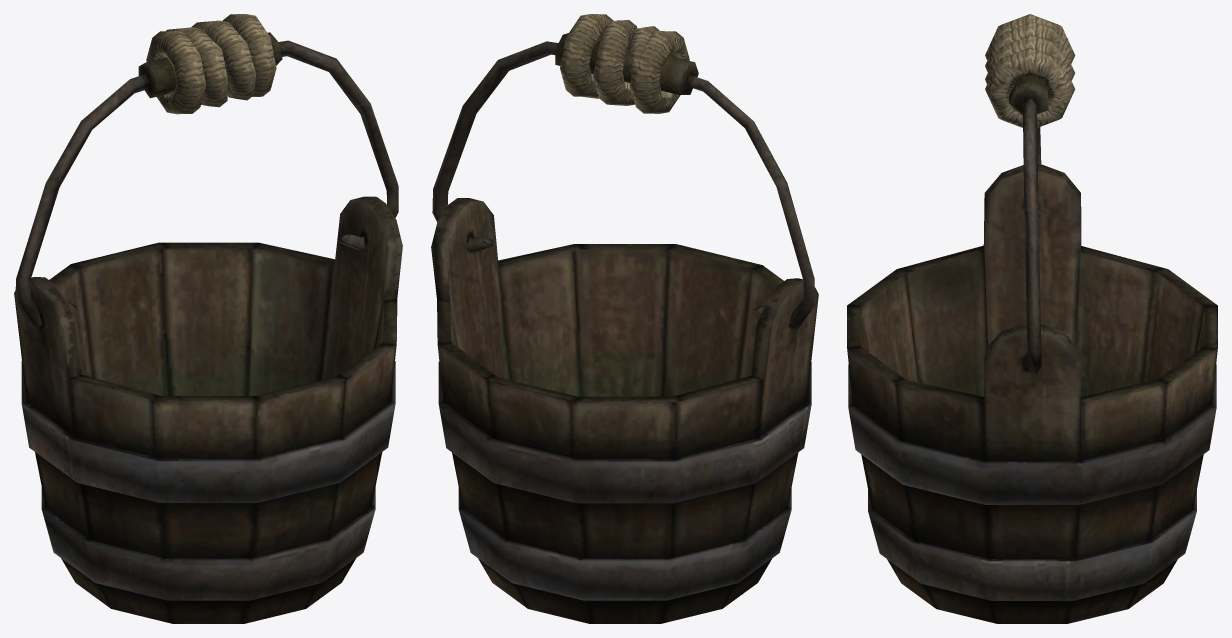
The model's file is wooden_bucket_rope.dae.
3 views of the same model, side by side, from view 1: azimuth 30°, elevation 25°; view 2: azimuth 150°, elevation 25°; view 3: azimuth 270°, elevation 25° (orthographic).
Parts seen in each view (by area): view 1: bucket, handle, rope; view 2: bucket, handle, rope; view 3: bucket, rope, handle.
Part boxes in pixels (box(x1,y1,x2,y2)): bucket: box(14, 196, 402, 623); handle: box(15, 32, 398, 326); rope: box(146, 14, 276, 114); bucket: box(431, 198, 818, 623); handle: box(432, 33, 814, 330); rope: box(560, 14, 689, 113); bucket: box(847, 164, 1217, 623); rope: box(985, 14, 1075, 127); handle: box(1009, 76, 1048, 374).
Size of the model in its own units: 0.4793 by 0.4077 by 0.6523.
